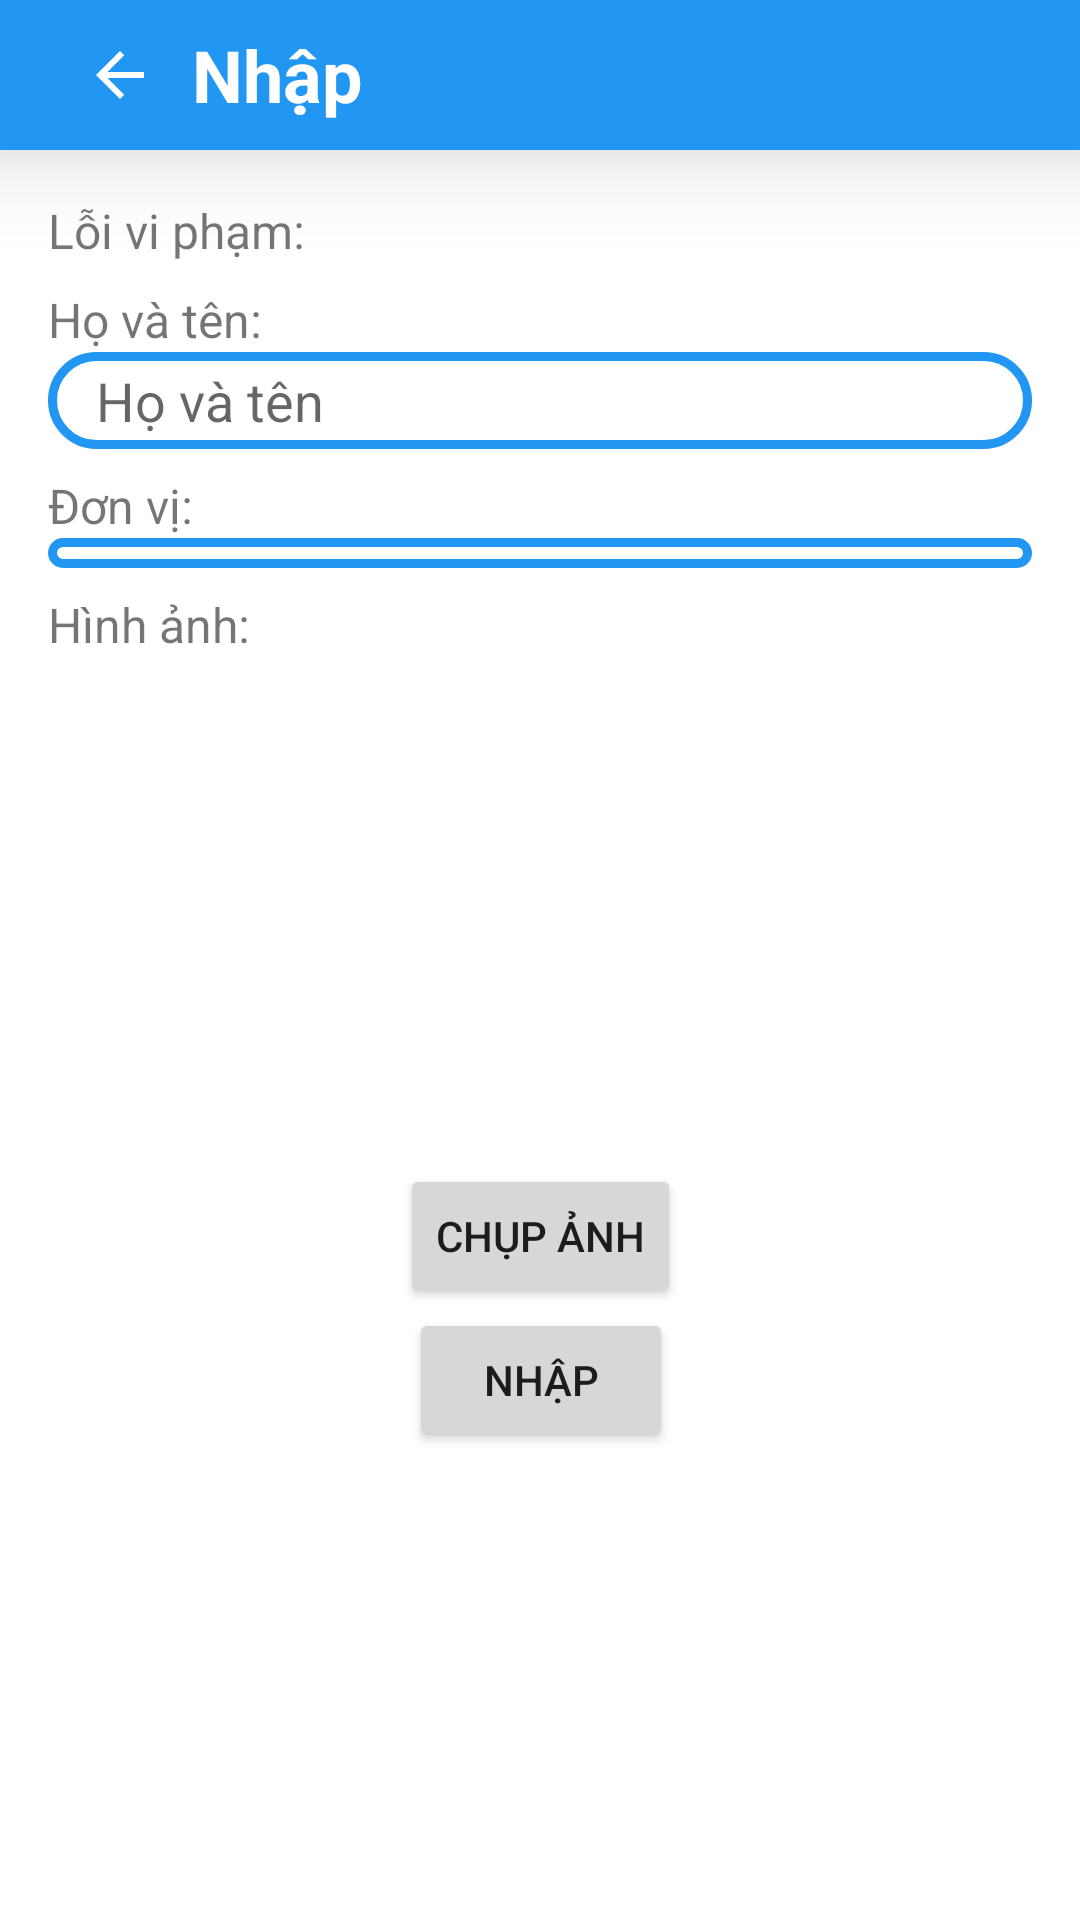

Named icons in this screenshot (1080*1920) and their centers, [x,y]:
back: [120,75]
